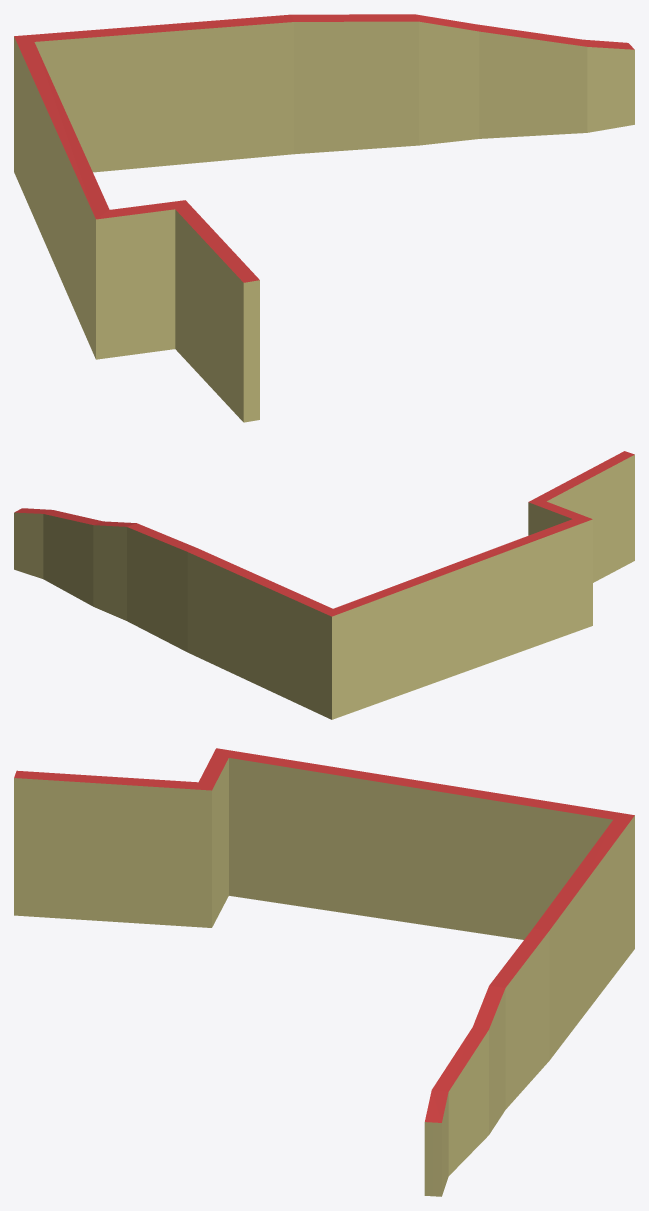
3 renders of one model, top to bottom at view 1: azimuth 30°, elevation 25°; view 2: azimuth 150°, elevation 25°; view 3: azimuth 270°, elevation 25°, orthographic. The views are drawn at different scales.
Bounding box in the file's own units: 34.63 × 29.25 × 7.17.
